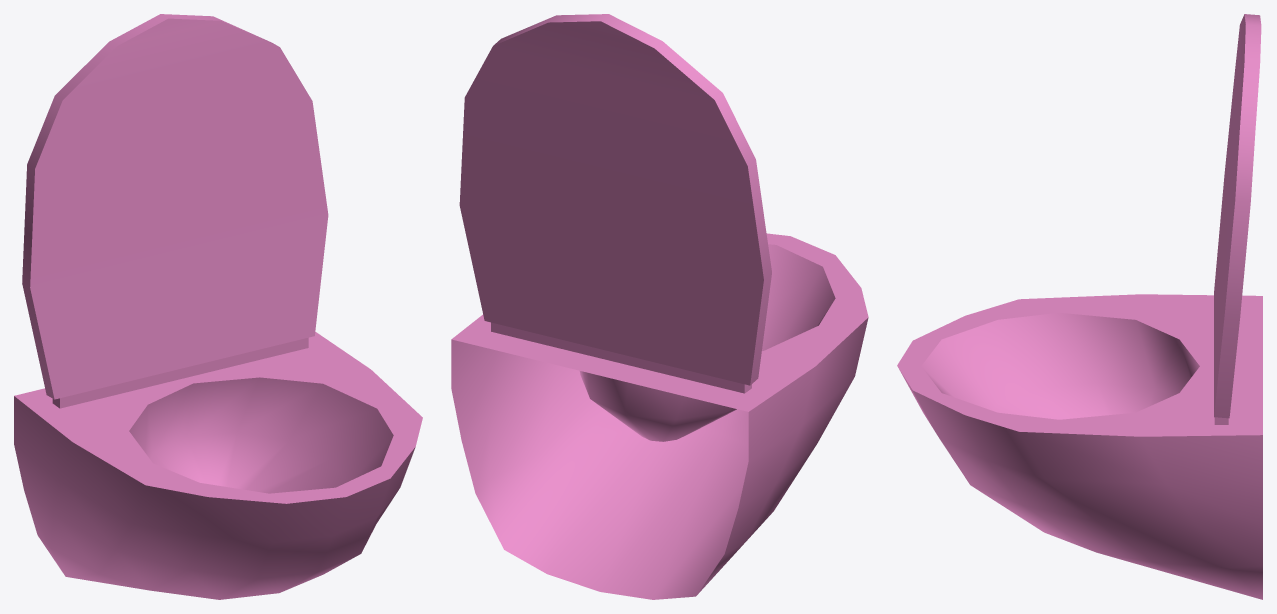
Rendered from Toilet.fbx.
The picture shows the model from 3 angles, left to right: view 1: azimuth 30°, elevation 25°; view 2: azimuth 150°, elevation 25°; view 3: azimuth 270°, elevation 25°; orthographic projection. The views are drawn at different scales.
Parts seen in each view (by area): view 1: Toilet; view 2: Toilet; view 3: Toilet.
Part boxes in pixels (x1=…): Toilet: x1=14, y1=14, x2=422, y2=599; Toilet: x1=451, y1=14, x2=868, y2=599; Toilet: x1=897, y1=14, x2=1262, y2=599.
Size of the model in its own units: 64.5 by 116 by 69.98.
